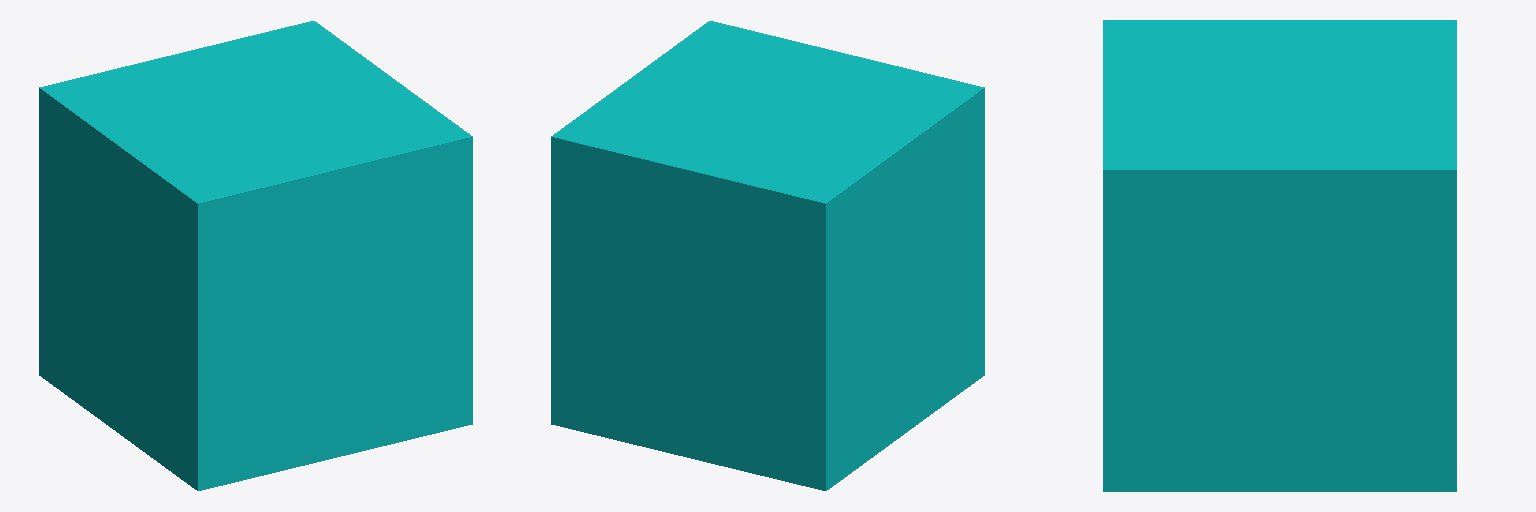
URDF robot description (simple_cuboid):
<?xml version="1.0"?>
<robot name="simple_cuboid">
  <link name="base_link">
    <inertial>
      <origin xyz="0 0 0" rpy="0 0 0" />
      <mass value="0.1" />
      <inertia ixx="0.000167" ixy="0" ixz="0" iyy="0.000167" iyz="0"
          izz="0.000167" />
    </inertial>
    <visual>
      <origin xyz="0 0 0" rpy="0 0 0" />
      <geometry>
        <box size="0.1 0.1 0.1" />
      </geometry>
      <material name="cyan">
        <color rgba="0.1 0.8 0.8 1" />
      </material>
    </visual>

    <!--
      This places contact spheres on the corners of the visual box and a
      *slightly* smaller inset contact box (centered on the visual origin). This
      accounts for issues in the contact computation providing stable table
      contact *and* supports grasping.

      When the box is in stable contact with the ground plane, the corner
      spheres will provide fixed contact points (simulating distributed contact
      points around the face).  However, for arbitrary grip configuration, the
      slightly inset box will provide contact with a *slight* offset (in this
      case a deviation of 0.0005 m from the visual surface).

      https://github.com/RobotLocomotion/drake/issues/6254 tracks the
      difficulty in supporting face-to-face contact.
     -->
    <collision>
      <geometry>
        <box size="0.1 0.1 0.1" />
      </geometry>
    </collision>

   </link>
</robot>

--- Facts derived from the render (not from the file) ---
3 views of the same robot in one strip: view 1: azimuth 30°, elevation 25°; view 2: azimuth 150°, elevation 25°; view 3: azimuth 270°, elevation 25° (orthographic).
Robot: simple_cuboid — 1 links, 0 joints (none); root link base_link; default pose: all joints at 0.
Links seen in each view (by area): view 1: base_link; view 2: base_link; view 3: base_link.
Link boxes in pixels (x1,y1,x2,y2): base_link: (39, 21, 472, 490); base_link: (551, 21, 984, 490); base_link: (1103, 20, 1456, 491).
Size in the robot's own frame: 0.1 by 0.1 by 0.1 metres.
Geometry: primitives only (box / cylinder / sphere), no mesh files.